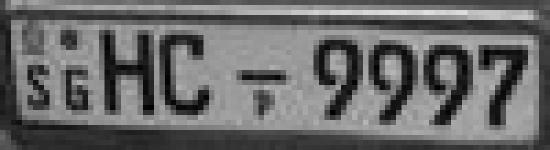-: (231, 65, 291, 91)
7: (476, 37, 532, 133)
9: (310, 30, 366, 126), (365, 33, 420, 130), (420, 38, 476, 131)
C: (157, 27, 217, 123)
G: (56, 60, 96, 117)
H: (96, 24, 159, 120)
S: (23, 58, 57, 114)
